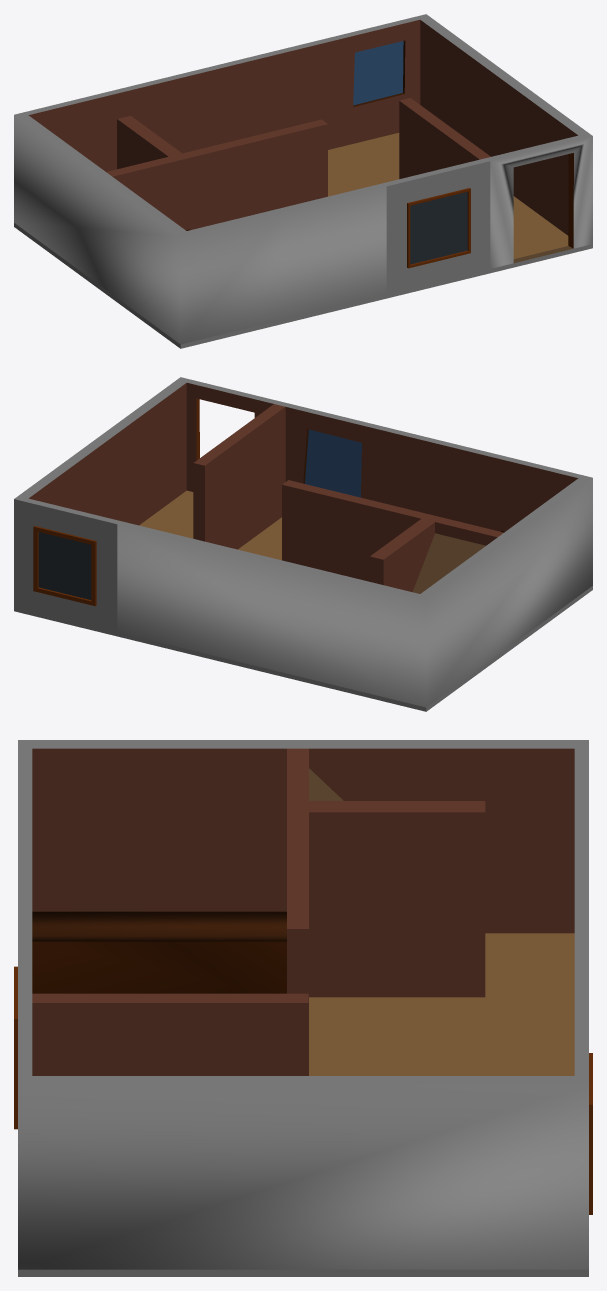
File: House2Interier.glb
The picture shows the model from 3 angles, top to bottom: view 1: azimuth 30°, elevation 25°; view 2: azimuth 150°, elevation 25°; view 3: azimuth 270°, elevation 25°; orthographic projection. The views are drawn at different scales.
Visible parts, largest first — view 1: House2Interier; view 2: House2Interier; view 3: House2Interier, Table.
Part boxes in pixels (left/top/right/bottom): House2Interier: left=14, top=14, right=592, bottom=348; House2Interier: left=14, top=377, right=592, bottom=711; House2Interier: left=14, top=740, right=592, bottom=1276; Table: left=32, top=911, right=286, bottom=993.
Bounding box in the file's own units: 20 × 5.2 × 14.2.
2 materials, 2 textured.
